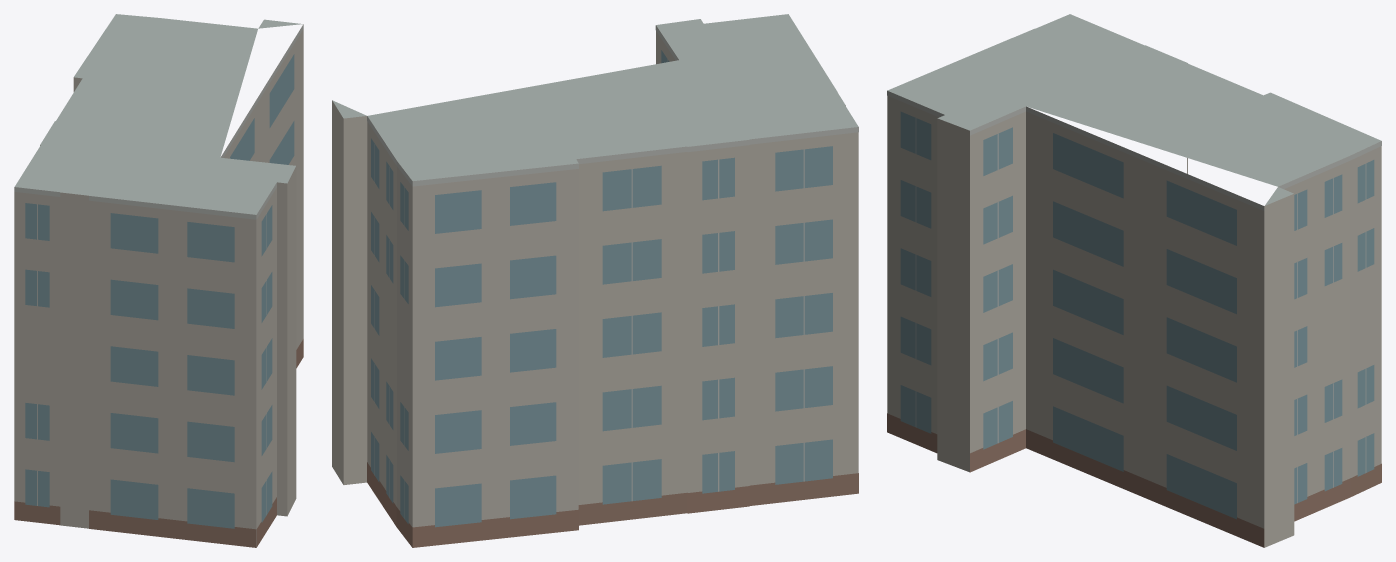
File: survey-upis-32689005.glb
3 views of the same model, side by side, from view 1: azimuth 30°, elevation 25°; view 2: azimuth 150°, elevation 25°; view 3: azimuth 270°, elevation 25° (orthographic). The views are drawn at different scales.
Parts seen in each view (by area): view 1: survey-upis-32689005.tmp; view 2: survey-upis-32689005.tmp; view 3: survey-upis-32689005.tmp.
Part boxes in pixels (box(x1,y1,x2,y2)): survey-upis-32689005.tmp: box(14, 14, 303, 547); survey-upis-32689005.tmp: box(332, 14, 858, 547); survey-upis-32689005.tmp: box(887, 14, 1381, 547).
Size of the model in its own units: 20.27 by 16.8 by 22.05.
